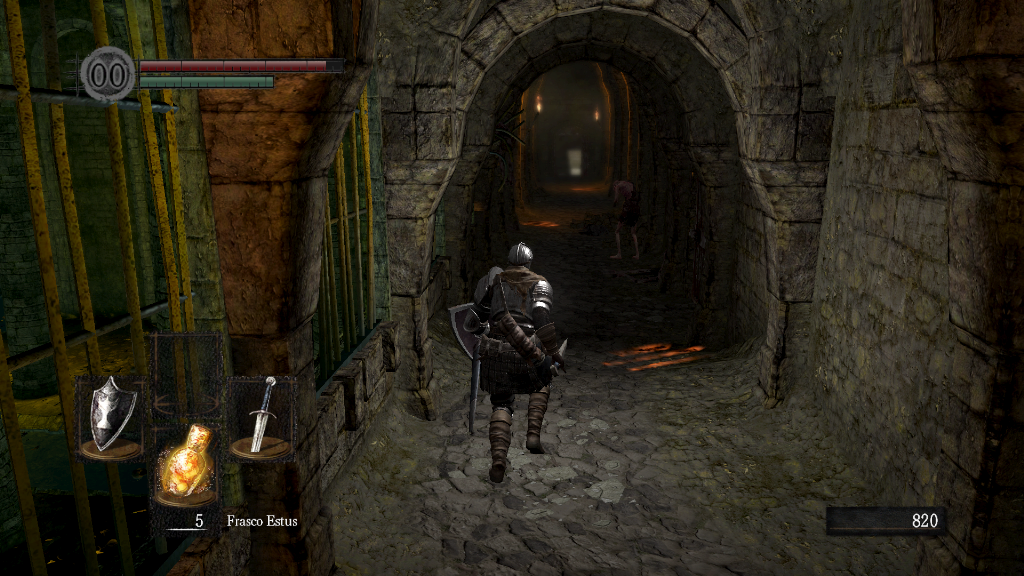health: (138, 58, 343, 71)
hollow: (602, 174, 639, 260)
humanity: (80, 45, 136, 102)
player: (448, 241, 571, 485)
souls: (825, 506, 945, 536)
stamina: (138, 74, 274, 88)
